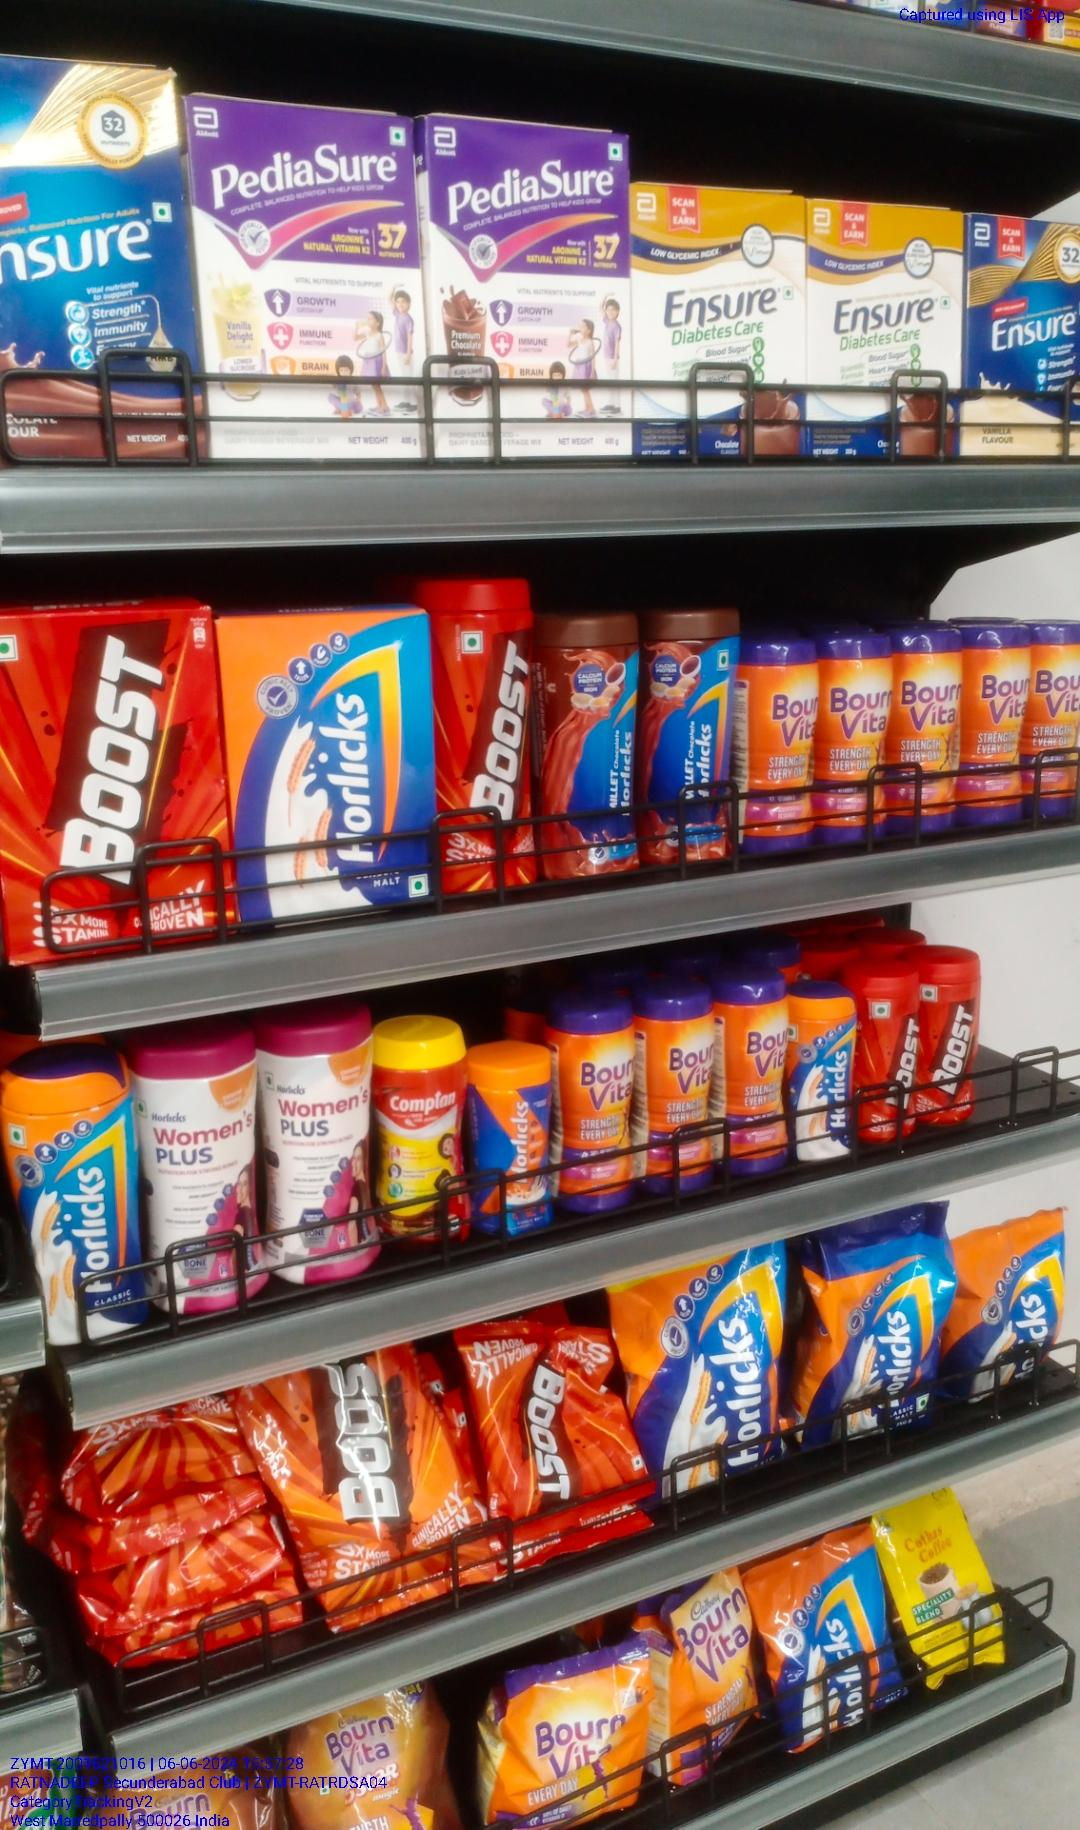BOURN_VITA_200_G_JAR: (746, 644, 819, 861), (566, 1008, 638, 1220), (892, 631, 964, 842), (647, 990, 717, 1199), (823, 639, 890, 849), (726, 979, 791, 1178), (971, 623, 1027, 828), (1027, 627, 1079, 833)
BOURN_VITA_500_G_POUCH: (508, 1667, 657, 1830)
COMPLAN_CHOCOLATE_200_GMS_JAR: (377, 1036, 468, 1253)
ENSURE_VANILLA_400_G_PACK: (964, 213, 1080, 459)
HORLICK_CLASSIC_MALT_200_G_JAR: (476, 1047, 554, 1250), (792, 995, 855, 1166)
HORLICK_CLASSIC_MALT_500_G_JAR: (6, 1059, 136, 1348)
HORLICK_CLASSIC_MALT_500_G_PACK: (226, 610, 432, 914)
HORLICK_CLASSIC_MALT_750_G_POUCH: (627, 1245, 777, 1515), (827, 1220, 942, 1465)
